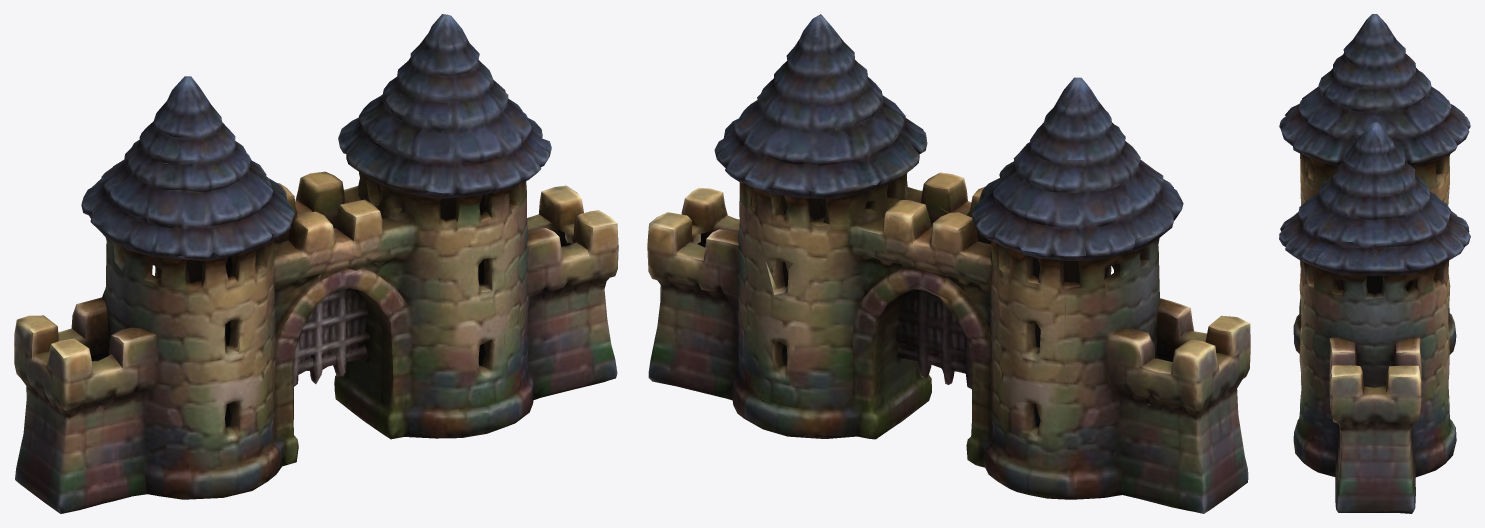
The model's file is gatehouse_a.glb.
The picture shows the model from 3 angles, left to right: view 1: azimuth 30°, elevation 25°; view 2: azimuth 150°, elevation 25°; view 3: azimuth 270°, elevation 25°; orthographic projection. The views are drawn at different scales.
Parts seen in each view (by area): view 1: world; view 2: world; view 3: world.
Part boxes in pixels (x1,y1,x2,y2): world: [14, 14, 618, 513]; world: [647, 14, 1250, 513]; world: [1279, 14, 1470, 513].
Bounding box in the file's own units: 1 × 0.6646 × 0.3493.
1 material, 1 textured.
